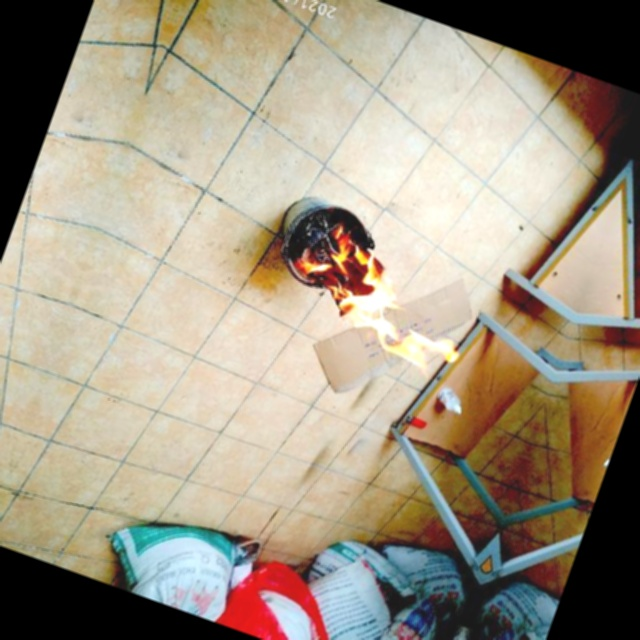fire: (264, 201, 475, 379)
